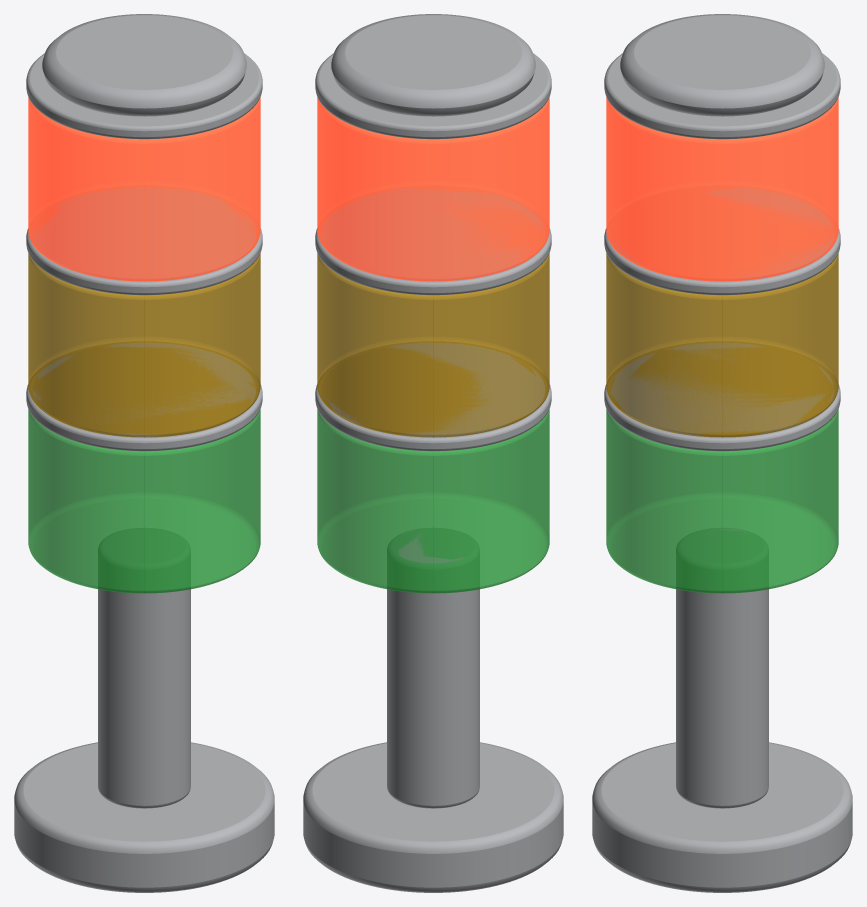
File: signal_tower.glb
3 renders of one model, left to right at view 1: azimuth 30°, elevation 25°; view 2: azimuth 150°, elevation 25°; view 3: azimuth 270°, elevation 25°, orthographic.
Parts seen in each view (by area): view 1: cover, housing; view 2: cover, housing; view 3: cover, housing.
Boxes of the visible parts, x1,y1,x2,y2 form: cover: [26, 14, 262, 593]; housing: [14, 528, 274, 892]; cover: [315, 14, 551, 593]; housing: [303, 528, 563, 892]; cover: [604, 14, 840, 593]; housing: [592, 528, 852, 892].
Bounding box in the file's own units: 0.056 × 0.187 × 0.056.
